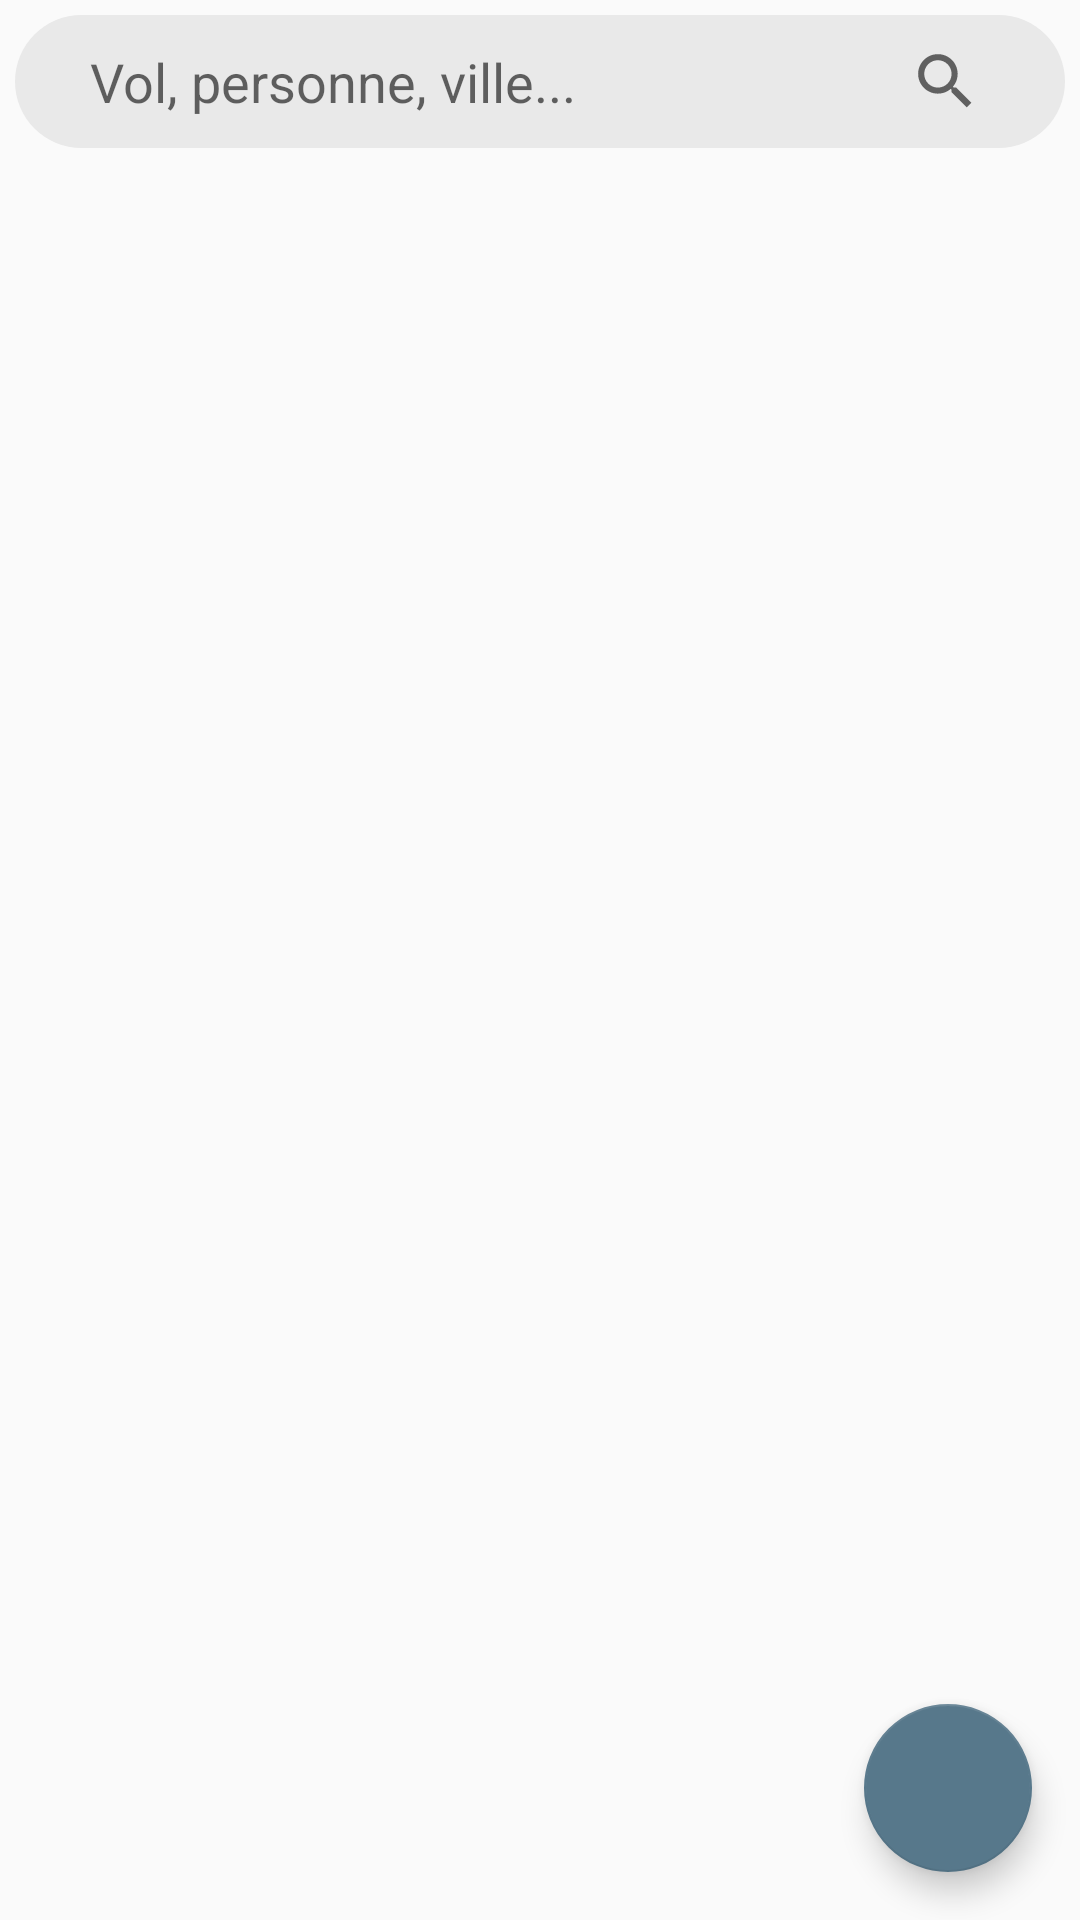

Screen size 1080px×1920px. Icon name, then its center in pixels as [x,y]:
search: [944,80]
